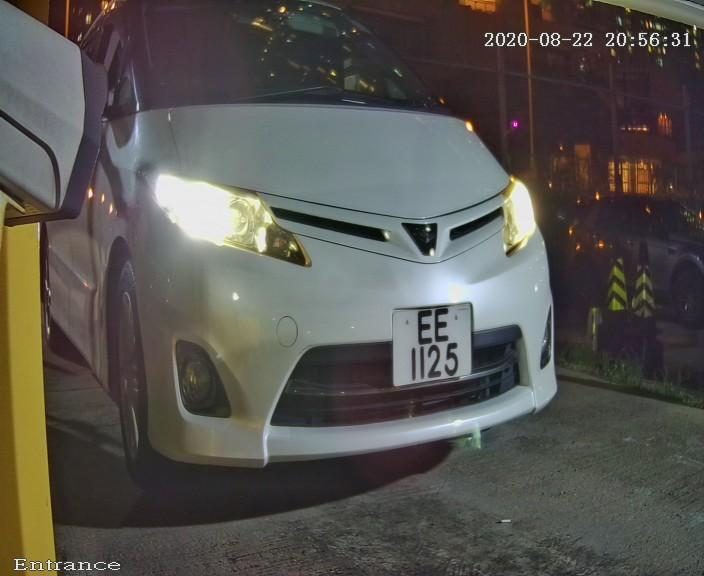Car: (45, 11, 595, 499)
License Plate: (359, 276, 517, 417)
